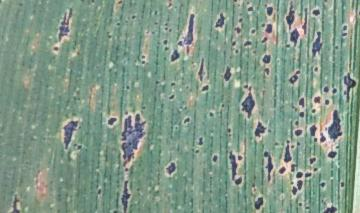tarspot: (121, 113, 146, 166), (62, 120, 78, 151), (59, 8, 73, 43), (241, 85, 255, 119), (328, 110, 343, 140), (343, 72, 356, 103), (183, 13, 195, 45), (263, 151, 273, 181), (122, 180, 131, 213), (286, 2, 295, 30), (312, 32, 322, 57), (229, 150, 237, 181), (289, 27, 300, 47), (214, 12, 226, 29), (254, 121, 266, 138), (302, 7, 308, 35), (290, 70, 301, 85), (198, 59, 205, 82), (223, 64, 232, 81), (284, 143, 292, 162), (12, 194, 20, 213), (166, 162, 177, 175), (170, 49, 180, 62), (255, 197, 264, 210), (323, 206, 338, 213), (262, 54, 272, 64), (265, 5, 273, 17), (277, 166, 287, 175), (297, 97, 305, 108), (327, 151, 338, 159), (290, 185, 298, 196), (310, 124, 317, 136), (108, 117, 117, 126), (265, 23, 273, 33), (311, 8, 321, 16), (235, 175, 243, 185), (319, 132, 326, 143), (293, 129, 304, 136), (182, 116, 191, 124), (233, 26, 241, 35), (313, 96, 322, 104), (297, 179, 303, 190), (260, 35, 268, 43), (322, 85, 330, 93), (308, 157, 316, 165), (243, 40, 252, 47), (263, 67, 270, 76), (297, 111, 306, 118), (201, 85, 209, 92), (236, 154, 244, 161), (339, 180, 346, 188), (296, 171, 303, 179), (290, 163, 297, 171), (251, 184, 258, 192), (185, 45, 190, 56), (198, 136, 203, 146), (212, 154, 218, 162), (247, 6, 255, 12), (324, 98, 330, 106), (168, 94, 175, 100), (177, 40, 183, 47), (305, 172, 312, 178), (52, 46, 60, 51), (77, 144, 83, 150), (230, 40, 236, 46), (243, 84, 249, 90), (250, 28, 256, 34), (342, 24, 348, 30), (17, 2, 24, 7), (163, 39, 168, 46), (332, 87, 337, 94), (320, 181, 325, 188), (97, 188, 102, 195), (284, 44, 292, 48), (155, 79, 160, 85), (171, 81, 176, 87), (154, 20, 159, 26), (168, 2, 173, 8), (208, 112, 214, 117), (194, 149, 200, 154), (220, 102, 225, 108), (238, 18, 244, 23), (227, 127, 232, 133), (252, 49, 257, 55), (260, 22, 266, 27), (341, 32, 347, 37), (313, 137, 318, 143), (294, 121, 300, 126), (289, 180, 295, 185), (154, 9, 158, 16), (124, 167, 129, 172), (132, 15, 137, 20), (141, 60, 146, 65), (151, 30, 156, 35), (185, 85, 190, 90), (335, 144, 340, 149), (268, 128, 273, 133), (297, 141, 302, 146), (313, 167, 318, 172), (305, 205, 310, 210), (179, 105, 183, 111), (314, 66, 318, 72), (343, 90, 347, 96), (113, 209, 119, 213), (117, 1, 124, 4), (126, 85, 130, 90), (108, 34, 112, 39), (116, 22, 121, 26), (142, 105, 146, 110), (169, 28, 173, 33), (246, 1, 251, 5), (235, 49, 239, 54), (335, 45, 339, 50), (312, 109, 316, 114), (291, 144, 295, 149), (286, 140, 291, 144), (298, 203, 303, 207), (274, 142, 279, 146), (165, 47, 169, 51), (184, 106, 188, 110), (358, 10, 360, 18), (142, 54, 145, 59), (164, 28, 169, 31), (234, 1, 239, 4), (165, 22, 168, 26), (92, 1, 96, 3), (1, 1, 3, 4)
